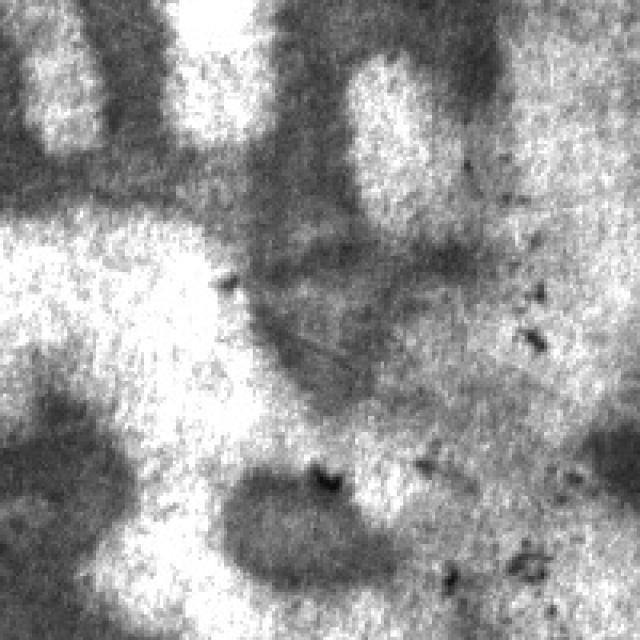patches: (202, 0, 474, 413), (0, 0, 198, 217), (0, 365, 138, 637), (262, 0, 512, 115), (204, 454, 393, 589), (570, 403, 636, 509)
